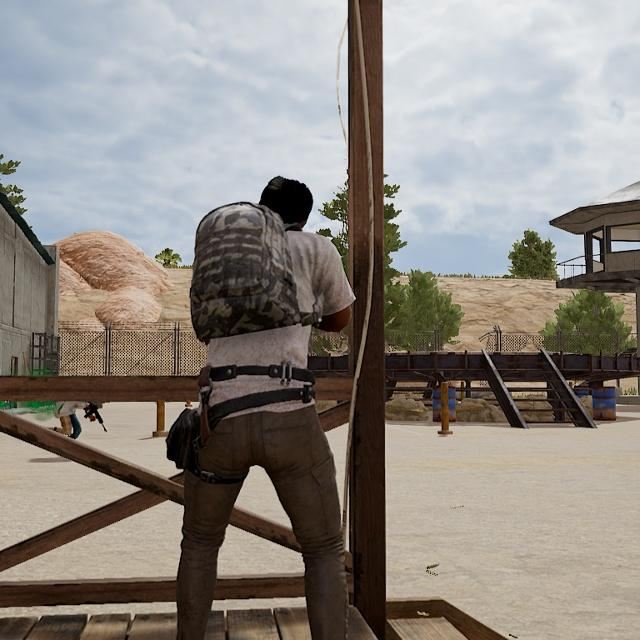head: (252, 169, 314, 237)
people: (160, 163, 366, 640), (44, 402, 115, 439)
